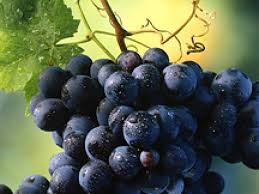Black grapes: (77, 72, 232, 158)
